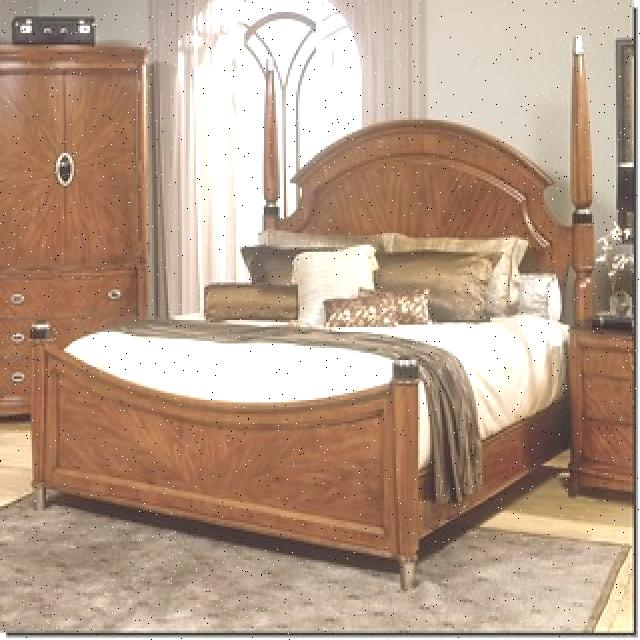bed: (45, 219, 575, 535)
